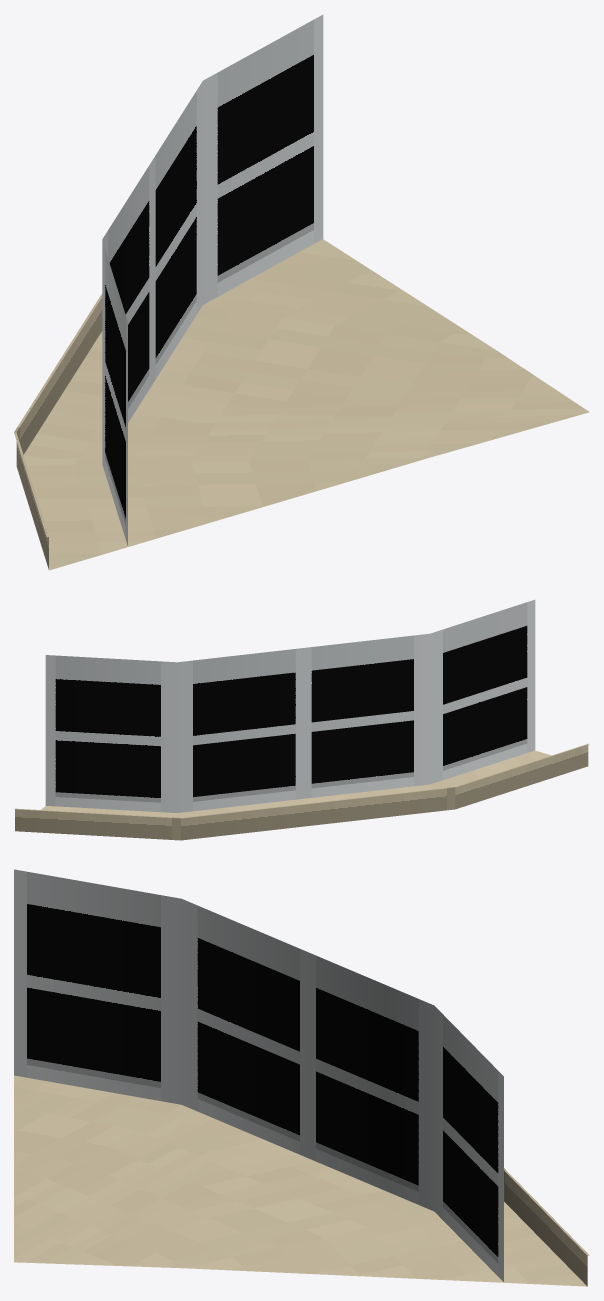
File: tank_small_roof_0_0.obj
3 views of the same model, one above another, from view 1: azimuth 30°, elevation 25°; view 2: azimuth 150°, elevation 25°; view 3: azimuth 270°, elevation 25° (orthographic). The views are drawn at different scales.
Visible parts, largest first — view 1: tank_small_roof_0_0; view 2: tank_small_roof_0_0; view 3: tank_small_roof_0_0.
Part boxes in pixels (box(x1,y1,x2,y2)): tank_small_roof_0_0: box(14, 14, 589, 570); tank_small_roof_0_0: box(14, 599, 589, 840); tank_small_roof_0_0: box(14, 869, 589, 1286).
Size of the model in its own units: 2.53 by 1.02 by 2.53.
